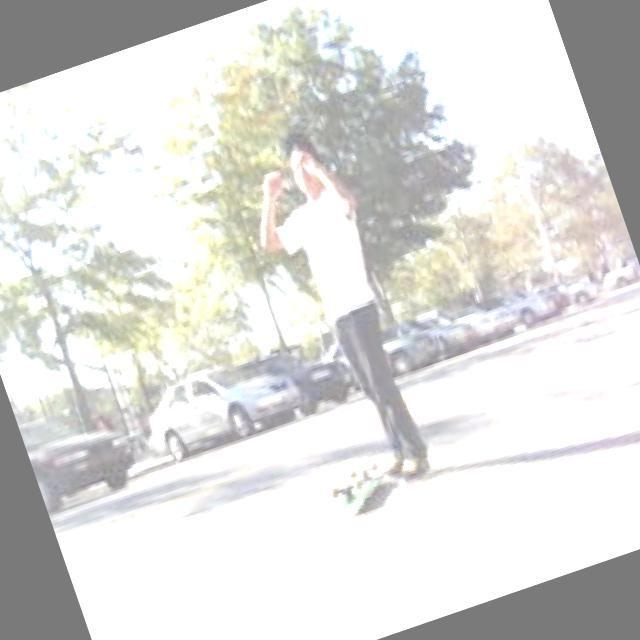Vehicle: (134, 344, 310, 468), (17, 387, 147, 513), (230, 330, 361, 435), (476, 274, 563, 342), (376, 309, 446, 376), (450, 290, 520, 354), (534, 269, 600, 320), (594, 251, 640, 293)
